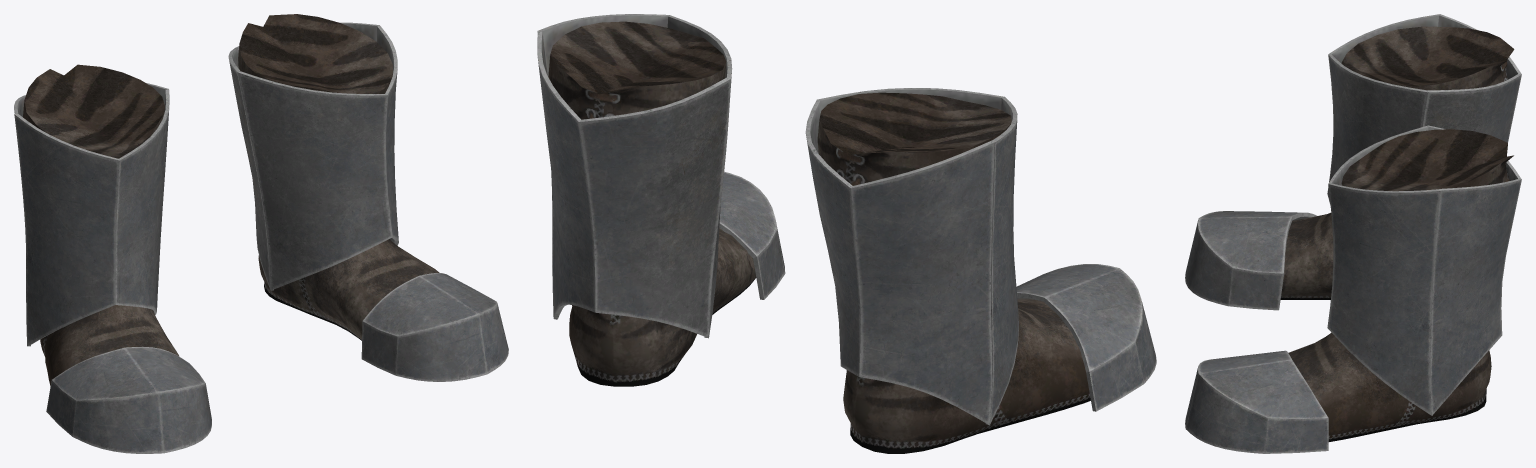
The model's file is sk_dwarf_erebor_greaves_heavy_a.fbx.
3 renders of one model, left to right at view 1: azimuth 30°, elevation 25°; view 2: azimuth 150°, elevation 25°; view 3: azimuth 270°, elevation 25°, orthographic. The views are drawn at different scales.
Parts seen in each view (by area): view 1: sk_dwarf_erebor_greaves_heavy_a; view 2: sk_dwarf_erebor_greaves_heavy_a; view 3: sk_dwarf_erebor_greaves_heavy_a.
Part boxes in pixels (x1=…): sk_dwarf_erebor_greaves_heavy_a: x1=14, y1=14, x2=508, y2=453; sk_dwarf_erebor_greaves_heavy_a: x1=537, y1=14, x2=1156, y2=453; sk_dwarf_erebor_greaves_heavy_a: x1=1185, y1=14, x2=1521, y2=453.
Bounding box in the file's own units: 0.5389 × 0.3716 × 0.3053.
1 material, 1 textured.
